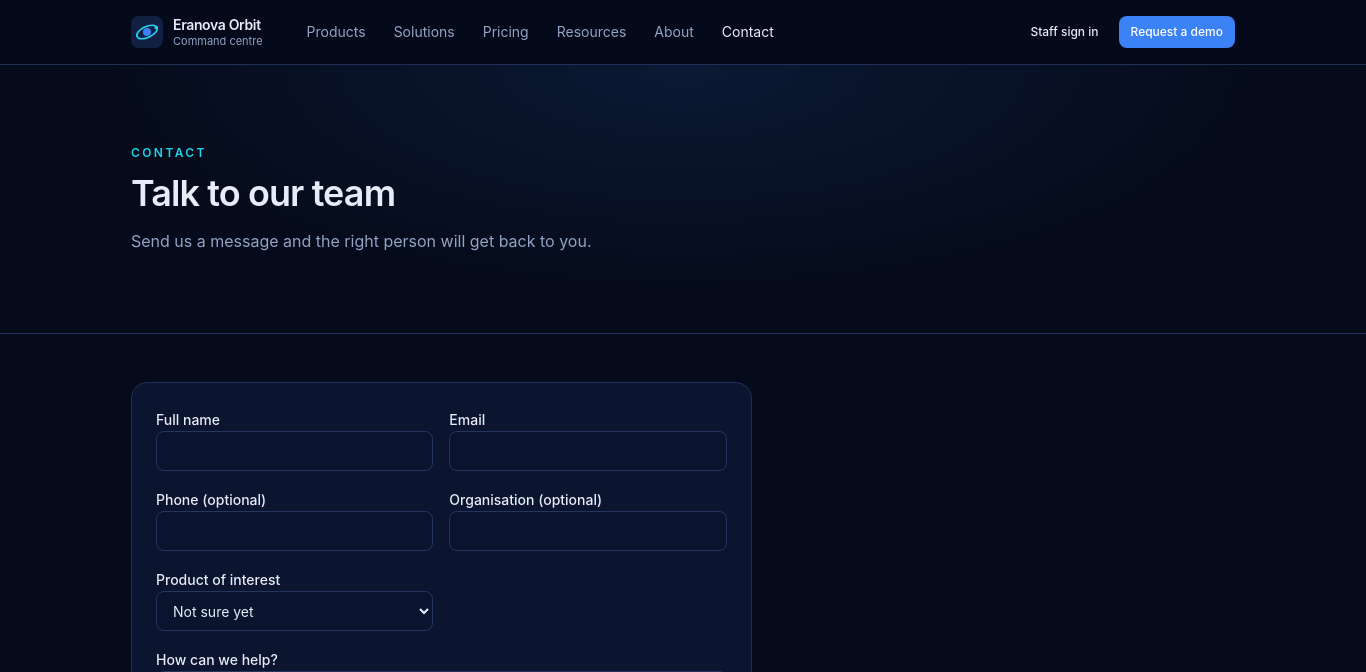
Test case: public marketplace › requires consent and sends a complete enquiry with attribution
This screenshot has width=1366, height=672.
Type "Wanjiku Mwangi" into the field labelled "Full name" at (295, 451), box [156,431,433,471]
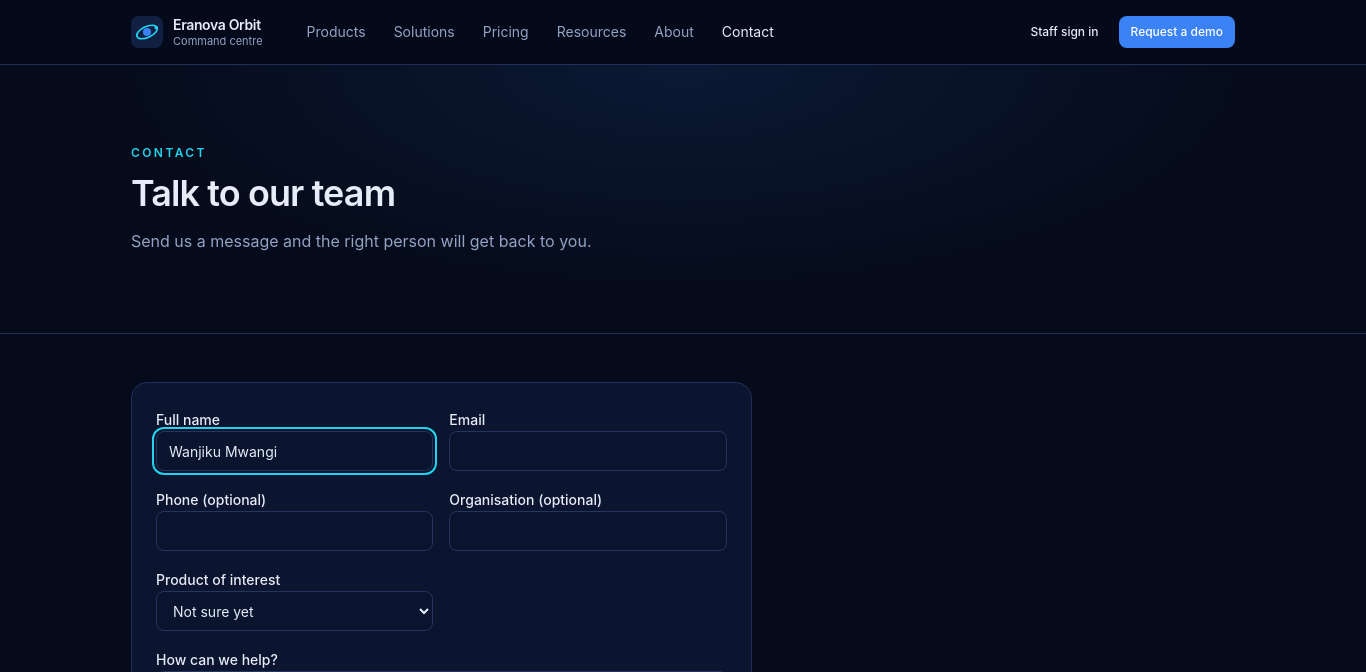
Type "wanjiku@school.example" into the field labelled "Email" at (588, 451), box [449,431,727,471]
(page scrolled)
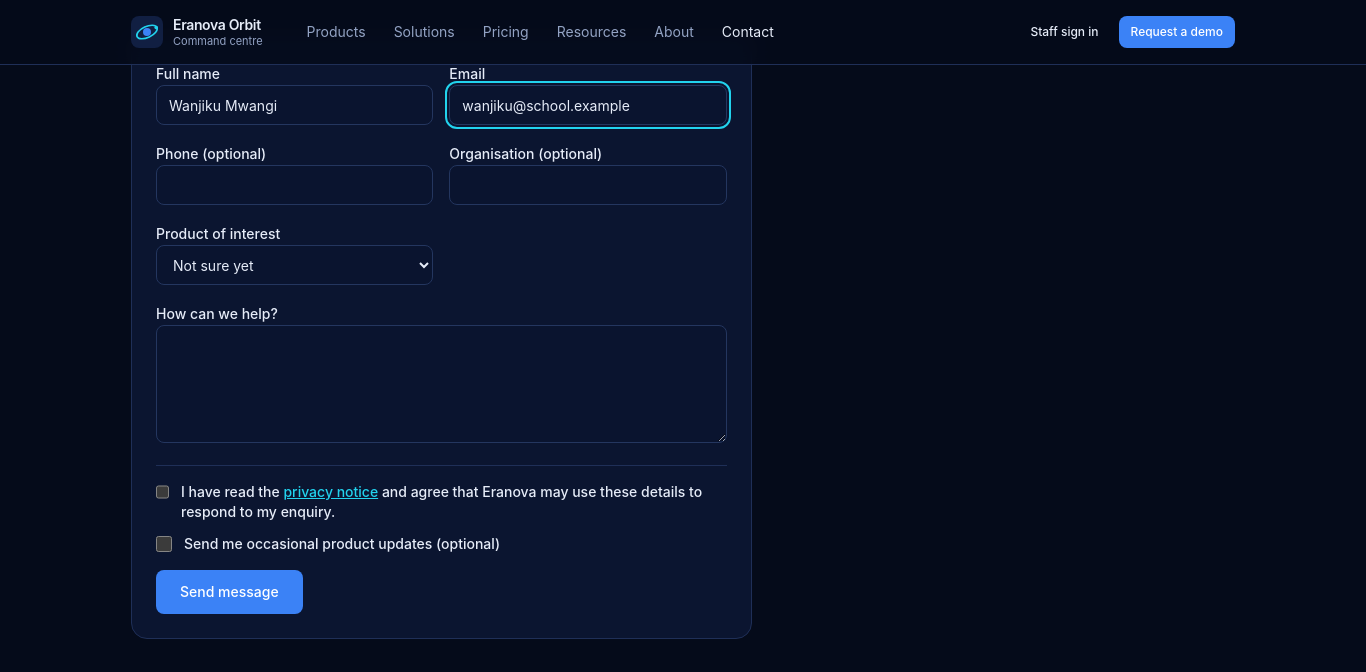
Type "We want a quote for our school." into the text box labelled "How can we help?" at (441, 384), box [156,325,727,443]
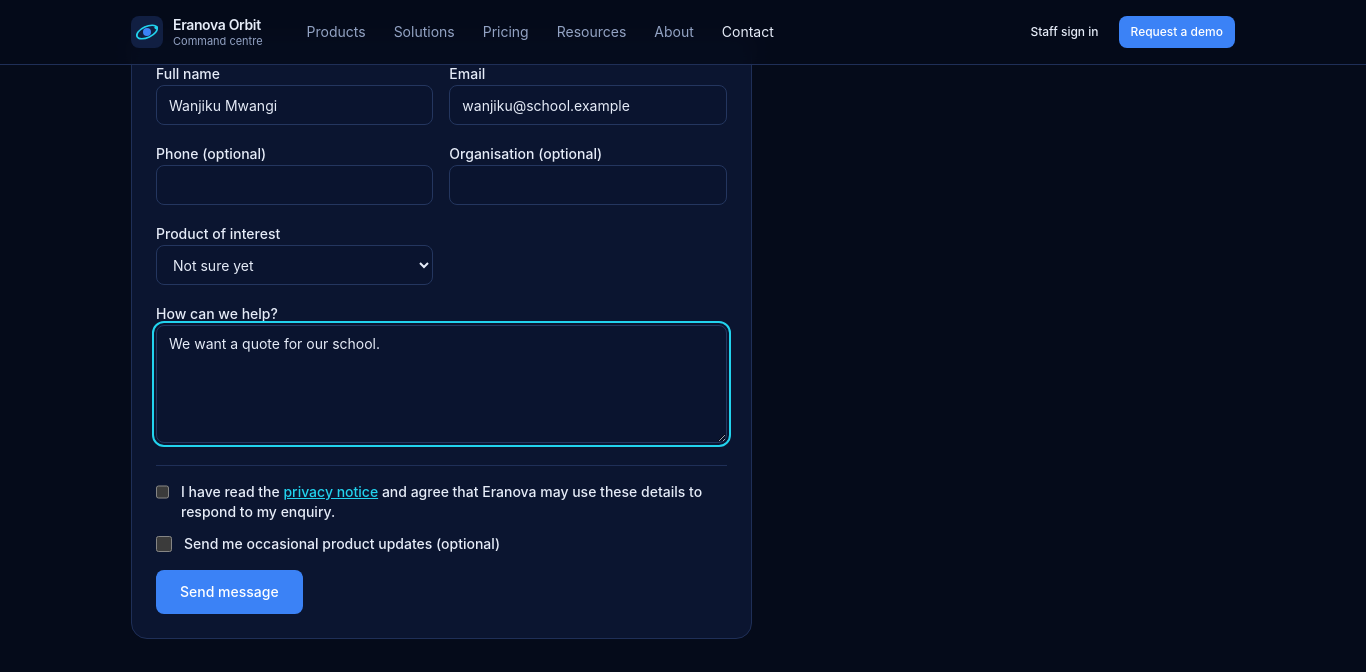
Click the button "Send message" at (229, 592), box [156,570,303,614]
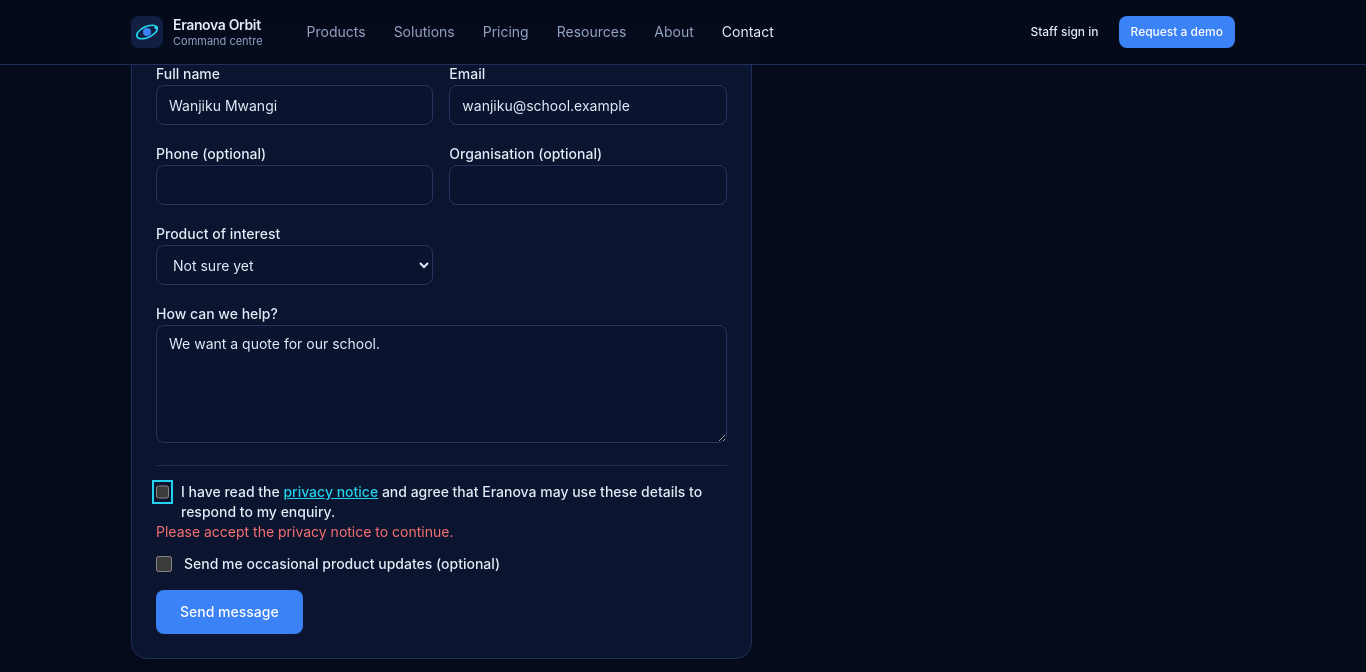
Expected: the text "Please accept the privacy notice to continue." is shown, [156,523,454,540]
Click the checkbox labelled "privacy notice" at (162, 492), box [156,484,169,500]
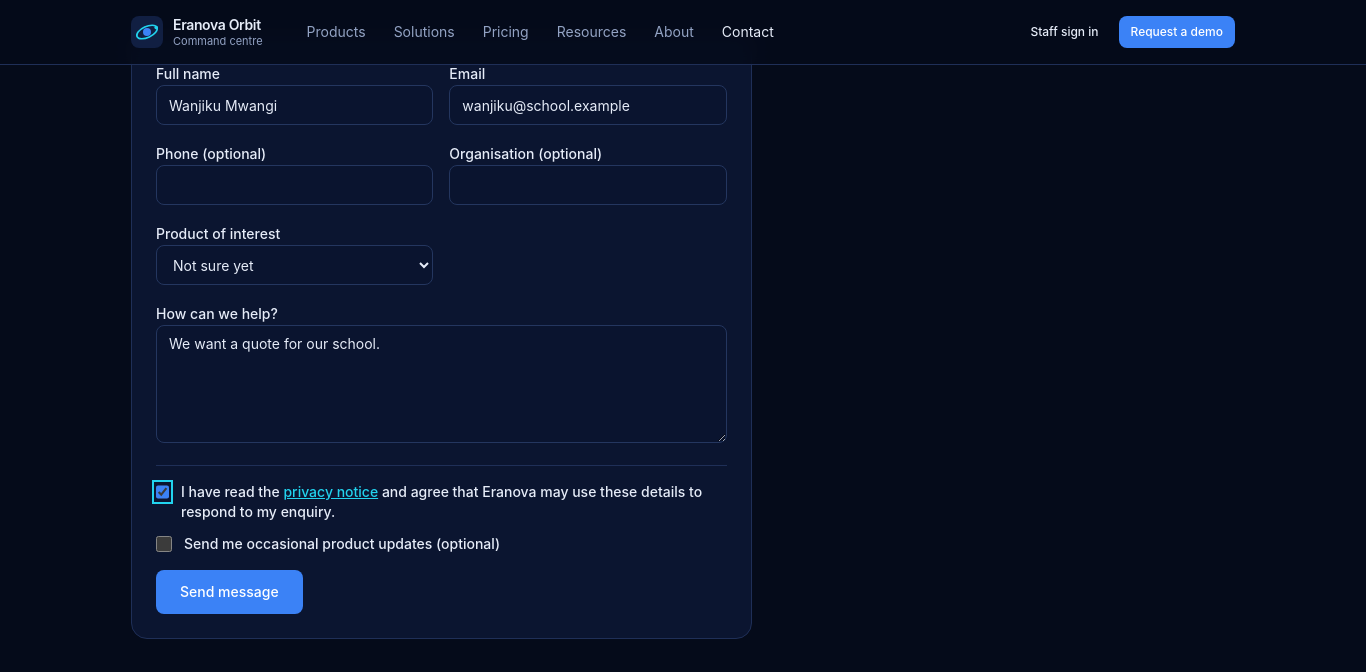
Click the button "Send message" at (229, 592), box [156,570,303,614]
(page scrolled)
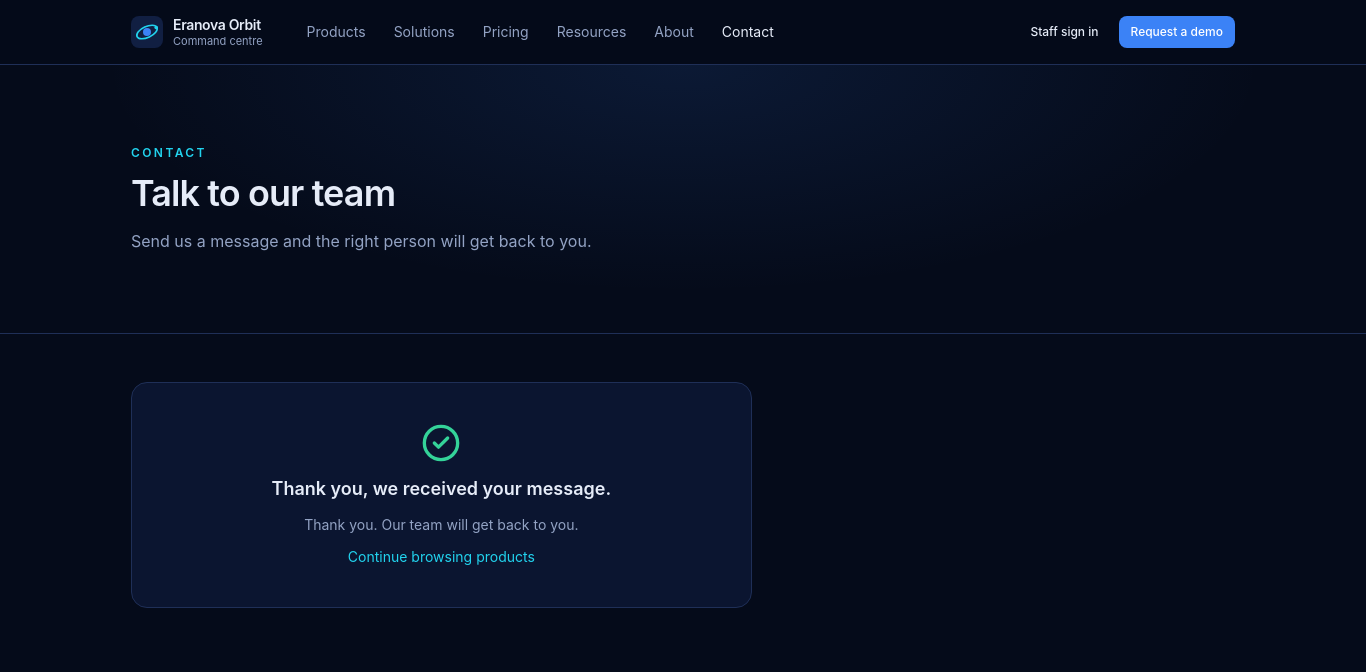
Expected: the text "Thank you, we received your message." is shown, [272,475,611,503]
